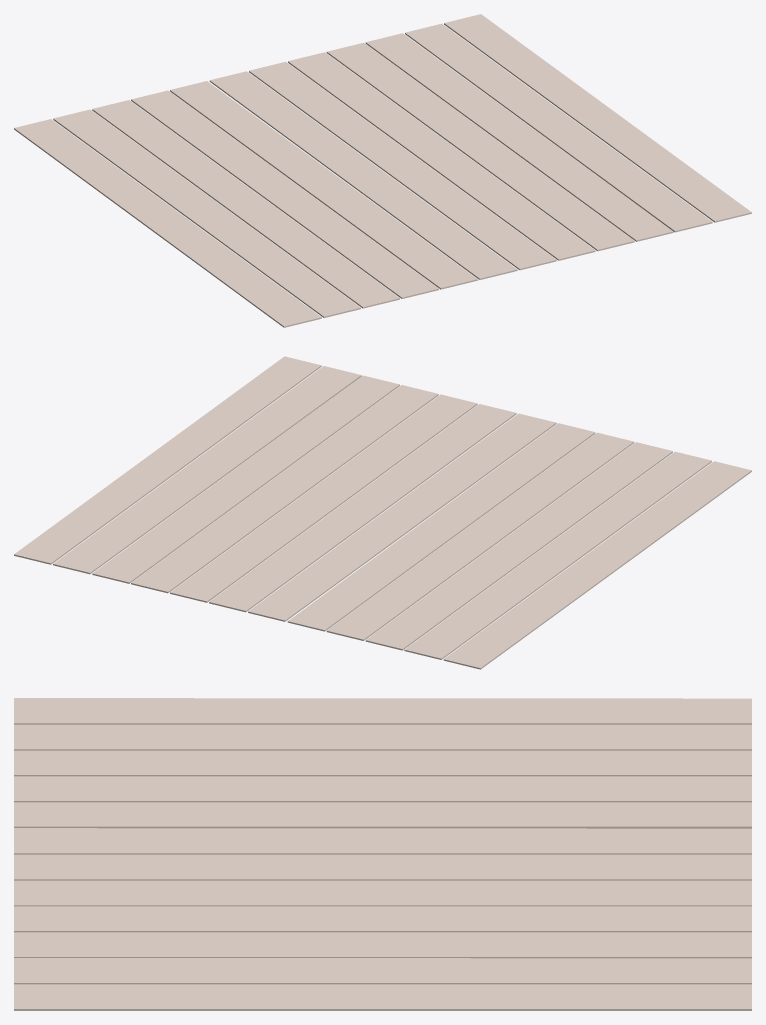
The model's file is Boards1.fbx.
The picture shows the model from 3 angles, top to bottom: view 1: azimuth 30°, elevation 25°; view 2: azimuth 150°, elevation 25°; view 3: azimuth 270°, elevation 25°; orthographic projection. The views are drawn at different scales.
Parts seen in each view (by area): view 1: Boards1; view 2: Boards1; view 3: Boards1.
Boxes of the visible parts, <box> form: Boards1: <box>14,14,751,327</box>; Boards1: <box>14,356,751,669</box>; Boards1: <box>14,698,751,1010</box>.
Size of the model in its own units: 488 by 489 by 1.41.
